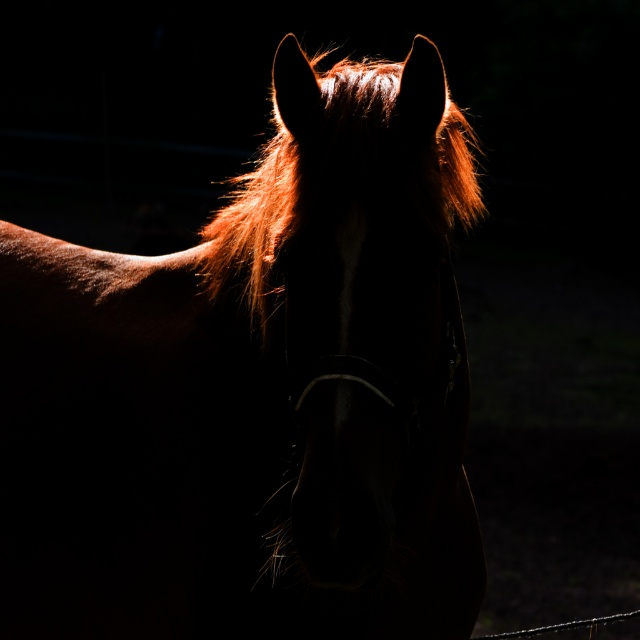Horse: (0, 29, 490, 640)
